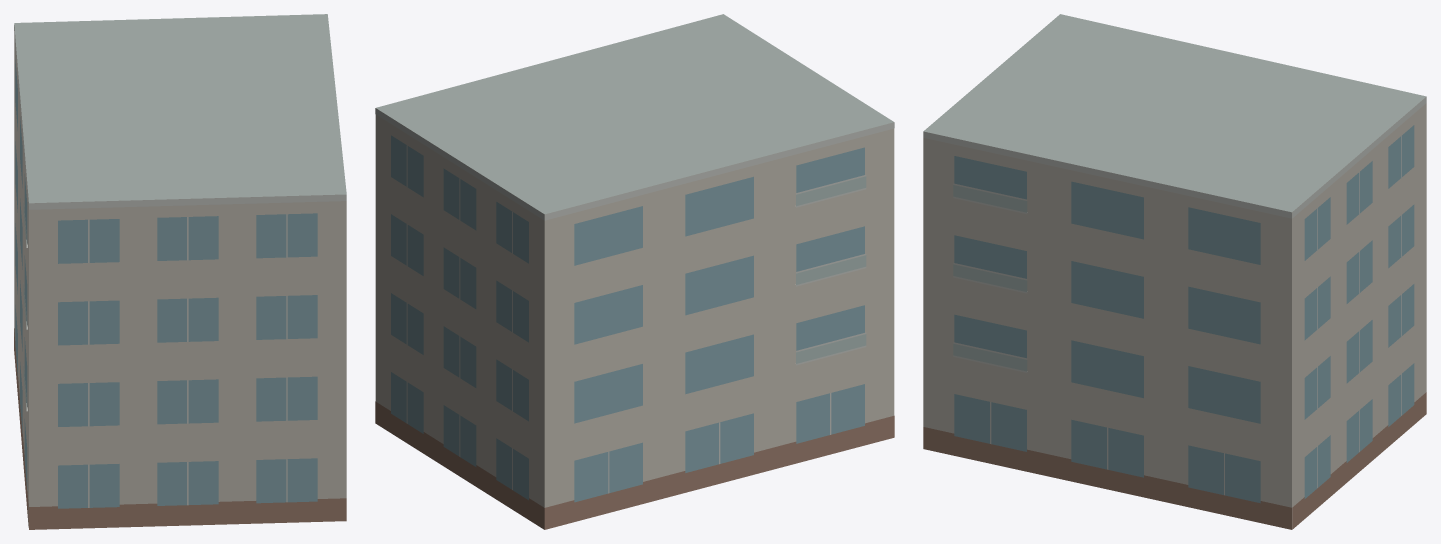
The model's file is survey-upis-32887761.glb.
The picture shows the model from 3 angles, left to right: view 1: azimuth 30°, elevation 25°; view 2: azimuth 150°, elevation 25°; view 3: azimuth 270°, elevation 25°; orthographic projection. The views are drawn at different scales.
Visible parts, largest first — view 1: survey-upis-32887761.tmp; view 2: survey-upis-32887761.tmp; view 3: survey-upis-32887761.tmp.
Boxes of the visible parts, x1,y1,x2,y2 form: survey-upis-32887761.tmp: (14,14,346,529); survey-upis-32887761.tmp: (375,14,894,529); survey-upis-32887761.tmp: (923,14,1426,529).
Size of the model in its own units: 16.35 by 12.2 by 17.54.
